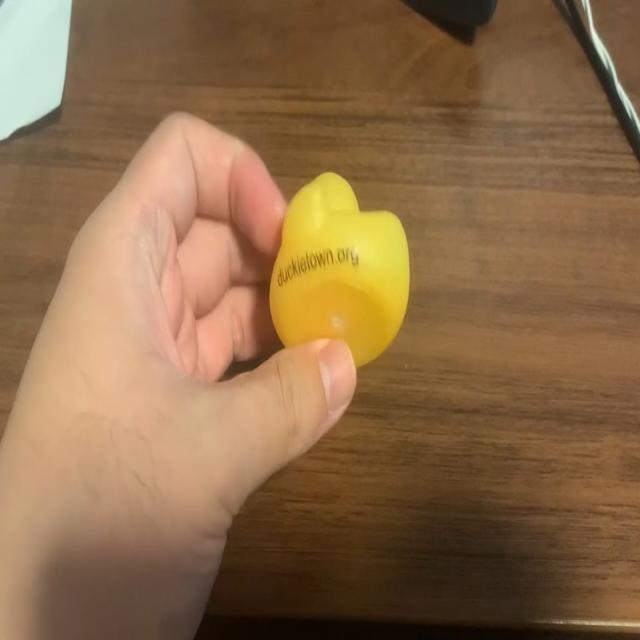rubber-duck: (269, 171, 408, 364)
